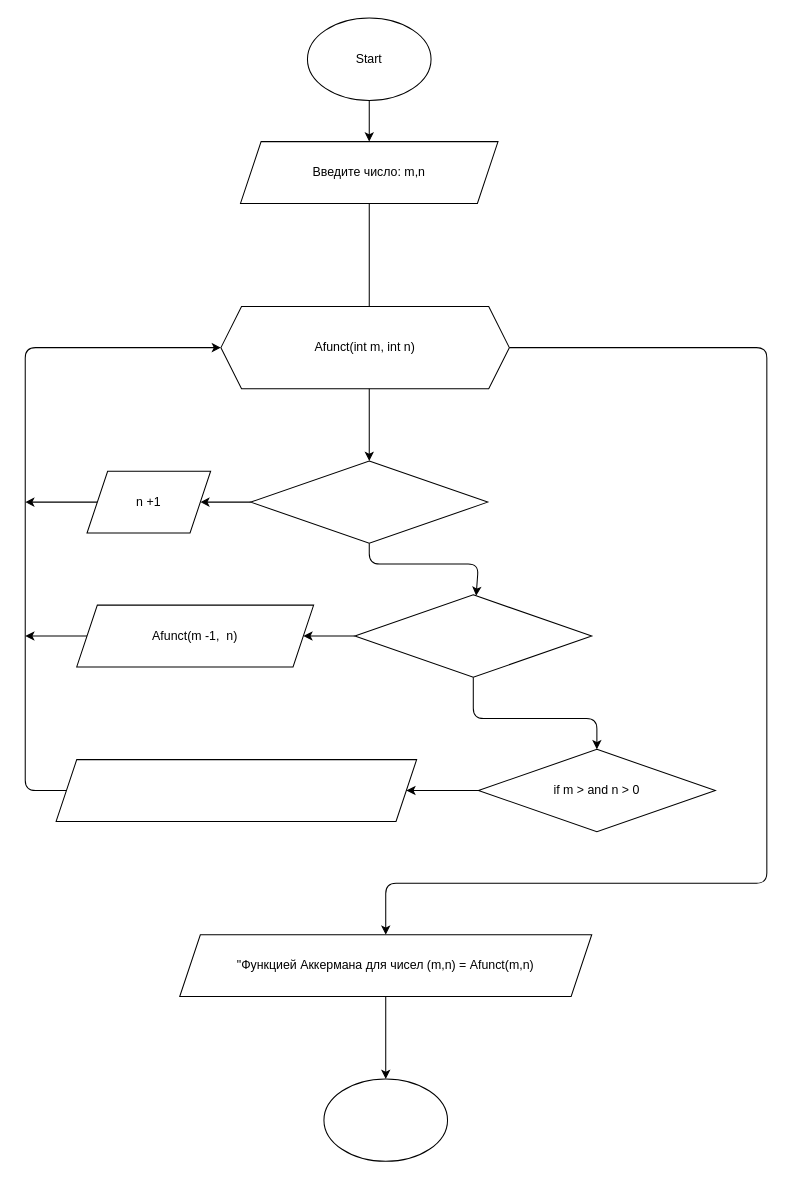
This 793x1179 diagram has some shape labels left out. The centre of each missing label's shape, as x and y in pixels:
Afunct(m-1, Afunct(m, n-1)): the point at 236,790
End: the point at 385,1119
if m != 0 and n == 0: the point at 473,635
if m == 0: the point at 369,501
